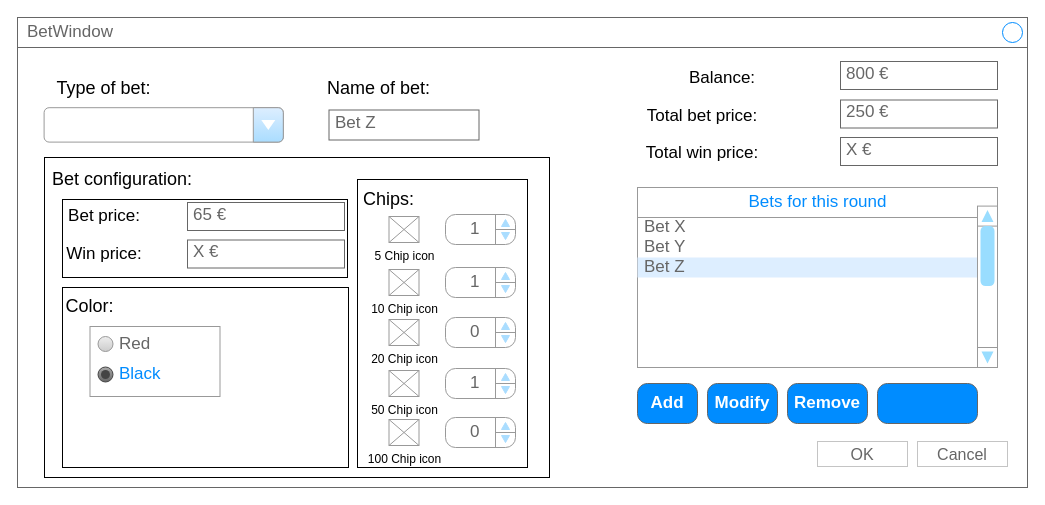
Some shapes in this 1045 by 505 pixel diagram are drawn without their labels. The box of each missing label's shape, as (x1, y1, x2, y2) in pixels:
Red / Black: (43, 107, 283, 142)
Remove All: (876, 382, 978, 424)
